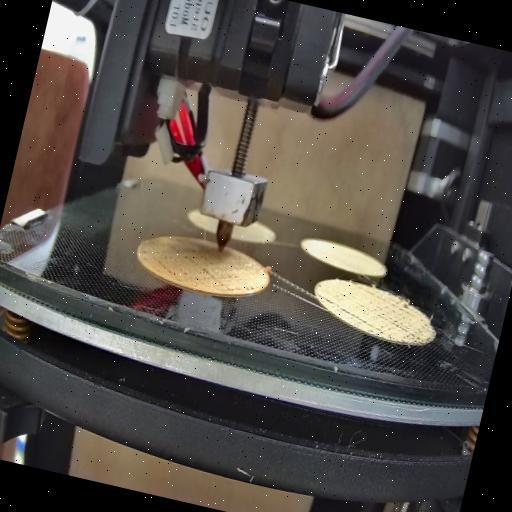under_extrusion: (135, 243, 260, 299), (336, 287, 434, 347), (312, 288, 336, 315)
